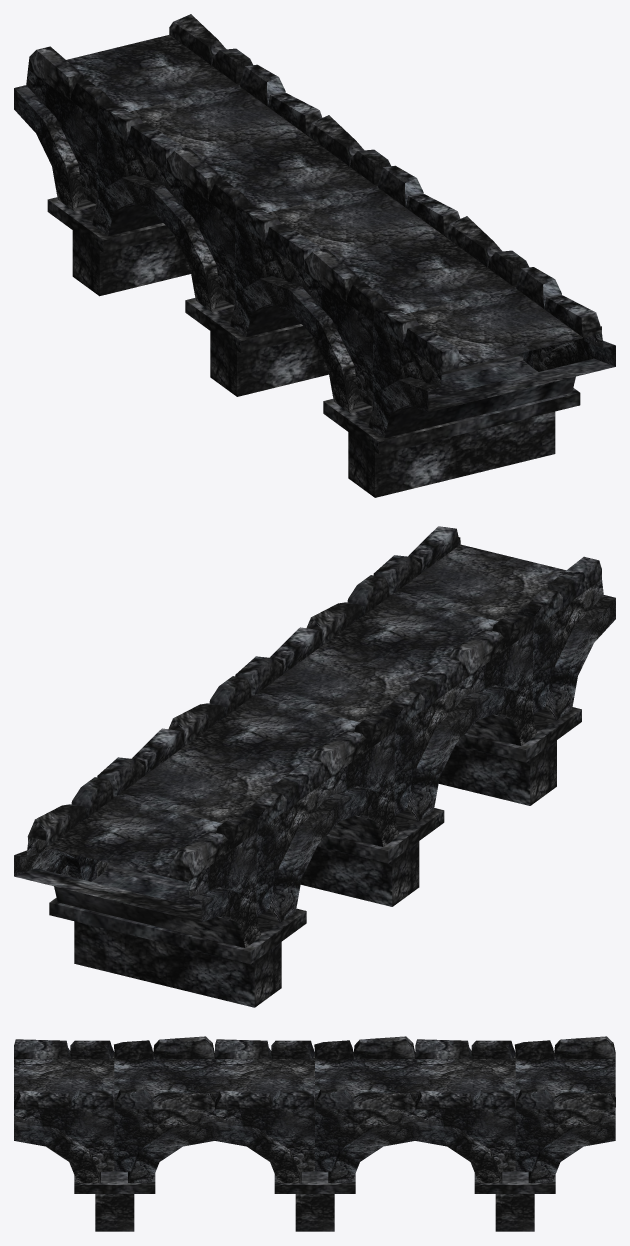
The model's file is BridgeSafe.FBX.
3 renders of one model, top to bottom at view 1: azimuth 30°, elevation 25°; view 2: azimuth 150°, elevation 25°; view 3: azimuth 270°, elevation 25°, orthographic. The views are drawn at different scales.
Visible parts, largest first — view 1: Tube01; view 2: Tube01; view 3: Tube01.
Boxes of the visible parts, bbox=[...] form: Tube01: bbox=[14, 14, 615, 497]; Tube01: bbox=[14, 526, 615, 1007]; Tube01: bbox=[14, 1036, 615, 1231].
Size of the model in its own units: 96.91 by 86.12 by 346.
Materials: 1 (1 with a texture image).
